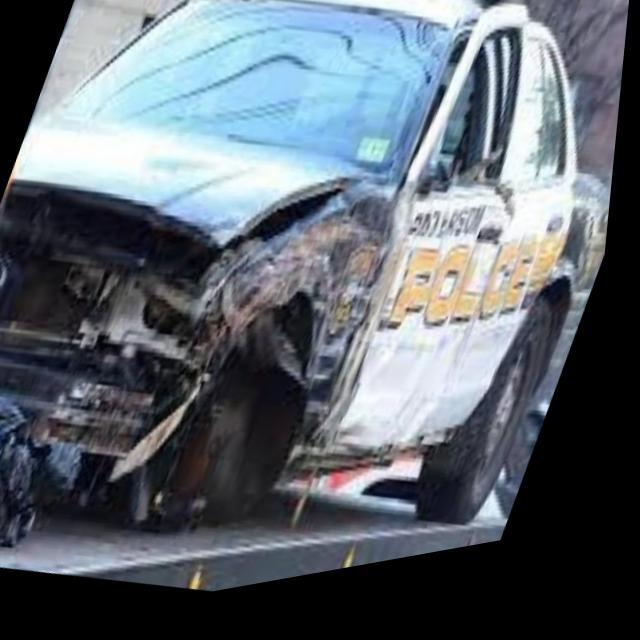dent: (0, 182, 506, 482)
